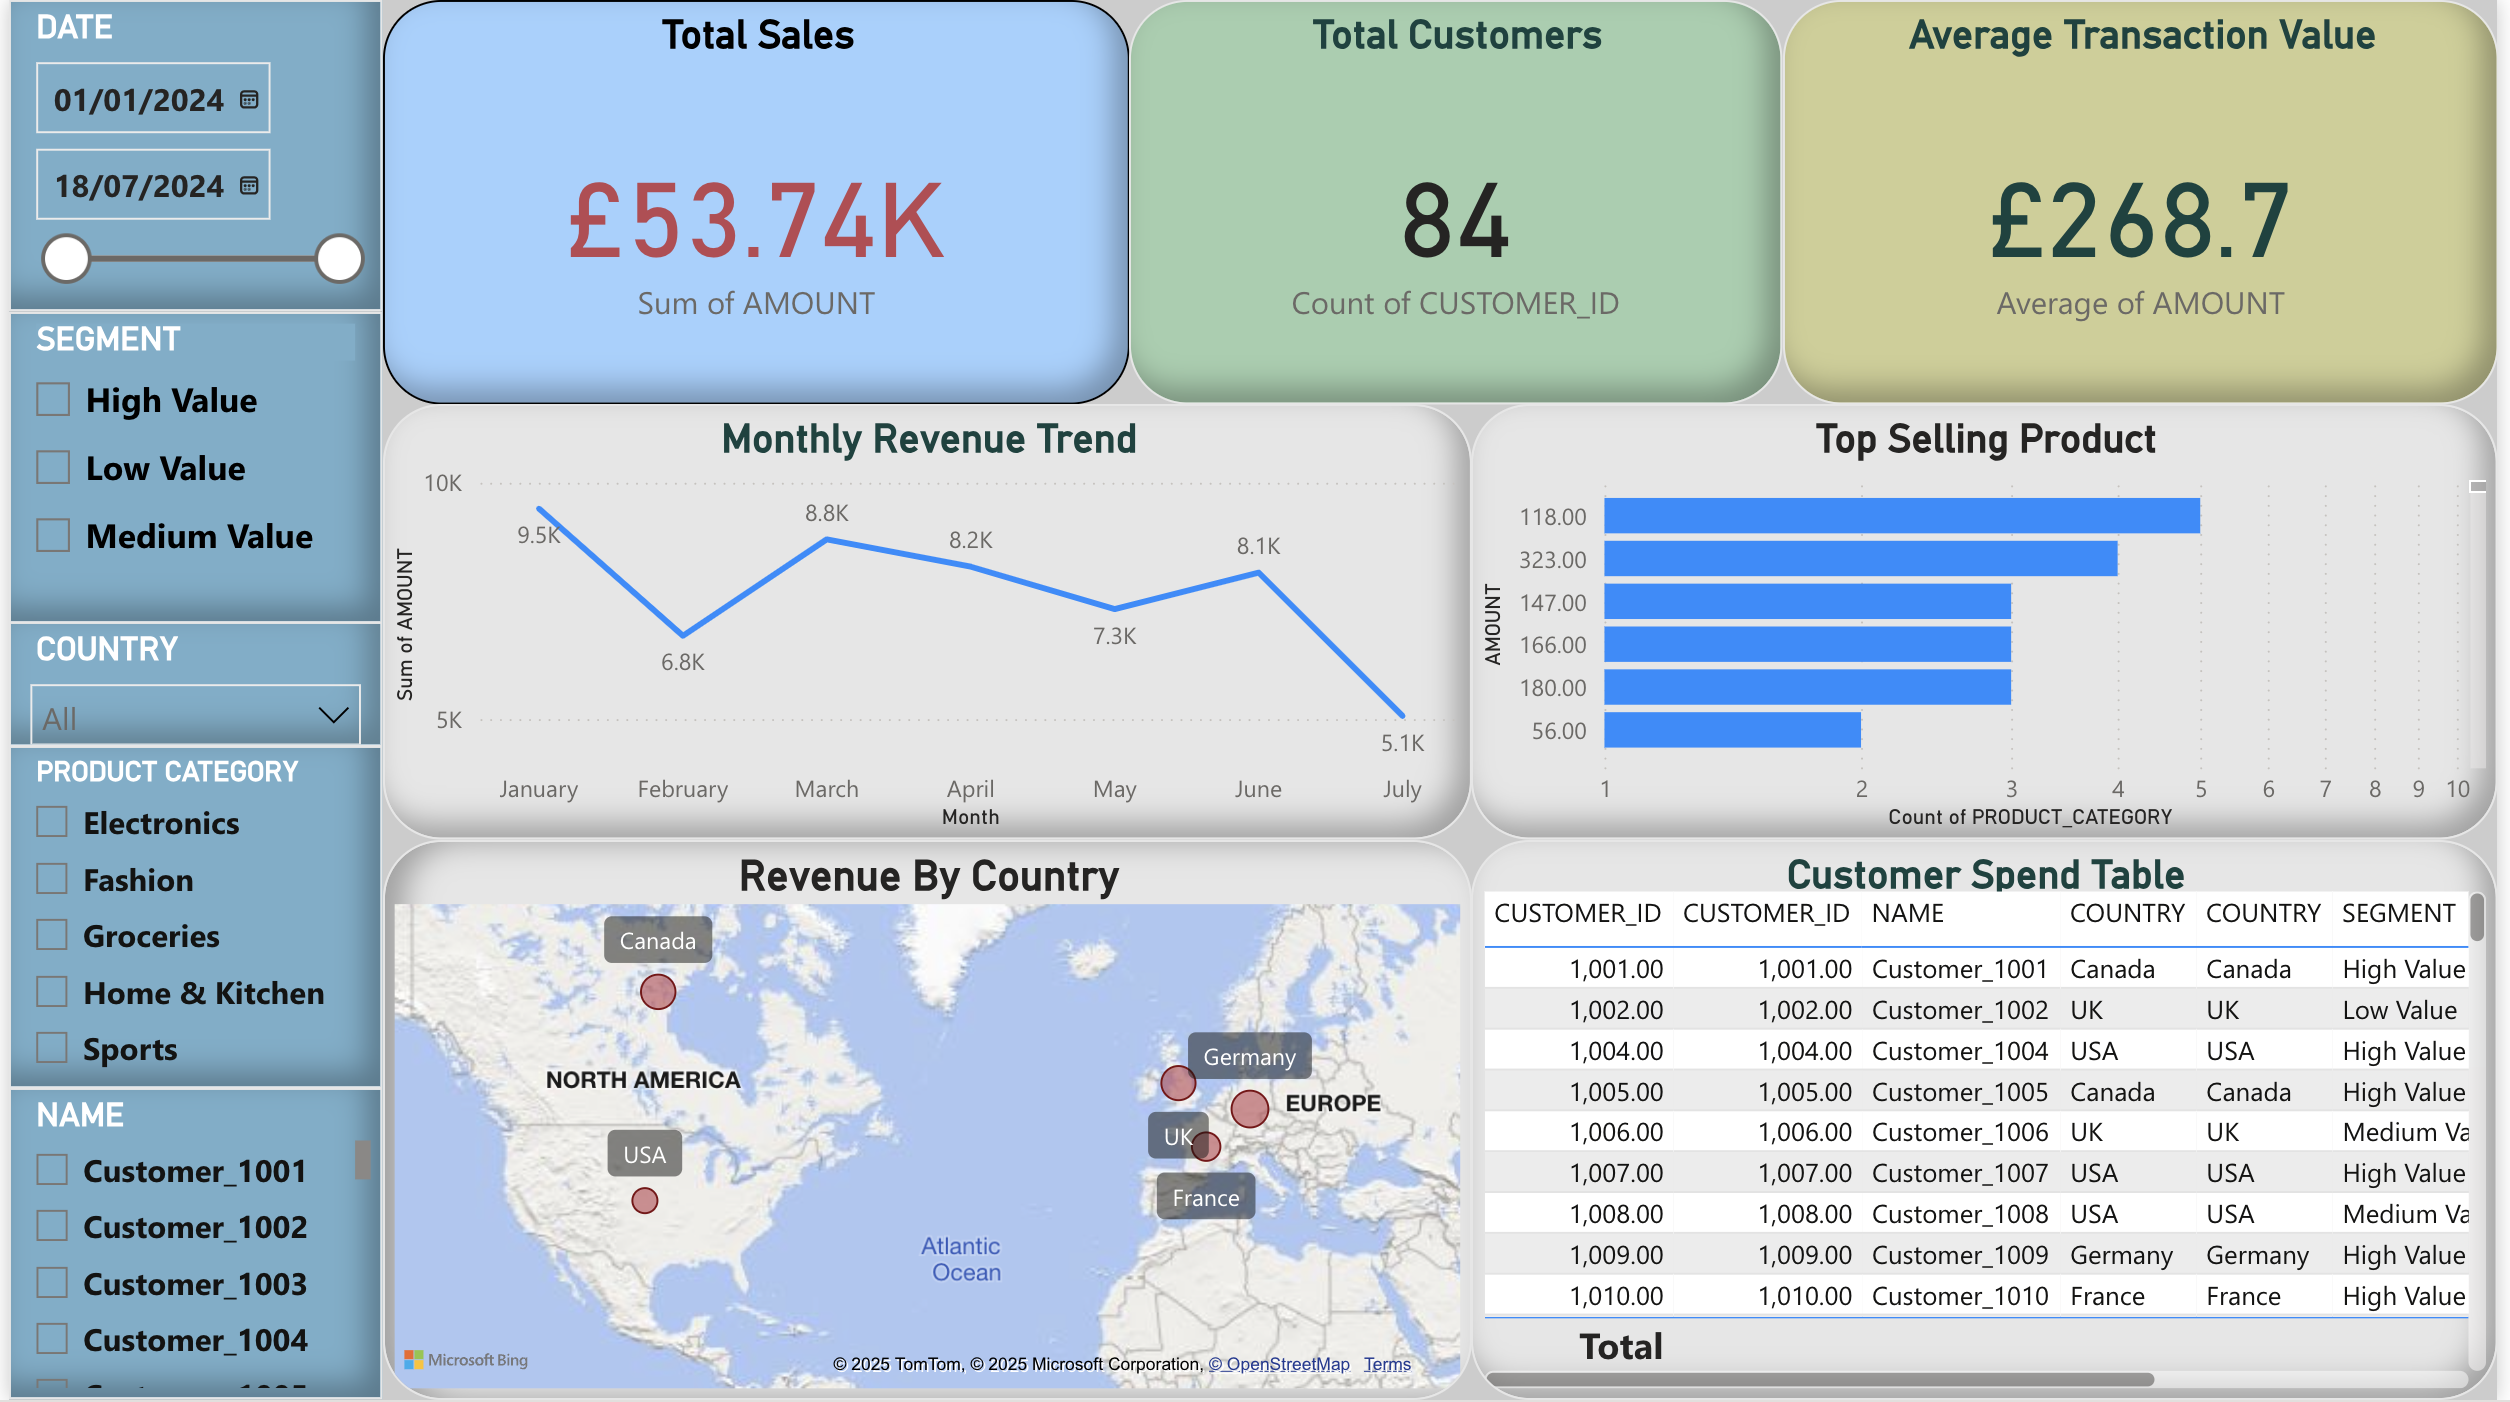

What the dashboard file says about the page in this screenshot:
{"tool":"powerbi","page":{"name":"Sales Customer Insights Dashboard","canvas":[1280,720],"ordinal":0},"visuals":[{"type":"card","title":"Total Sales","fields":{"Values":["FACT_TRANSACTIONS.AMOUNT"]},"box":[192,0,384,208],"z":0},{"type":"card","title":"Total Customers","fields":{"Values":["FACT_TRANSACTIONS.CUSTOMER_ID"]},"box":[576,0,336,208],"z":1000},{"type":"card","title":"Average Transaction Value","fields":{"Values":["FACT_TRANSACTIONS.AMOUNT"]},"box":[912,0,368,208],"z":2000},{"type":"lineChart","title":"Monthly Revenue Trend","fields":{"Y":["FACT_TRANSACTIONS.AMOUNT"],"Category":["FACT_TRANSACTIONS.DATE.Variation.Date Hierarchy.Month"]},"box":[192,208,560,224],"z":3000},{"type":"clusteredColumnChart","title":"Top Selling Product Categories ","fields":{"Category":["FACT_TRANSACTIONS.PRODUCT_CATEGORY"],"Y":["FACT_TRANSACTIONS.AMOUNT"]},"box":[816,432,352,144],"z":4000},{"type":"tableEx","title":"Customer Spend Table","fields":{"Values":["DIM_CUSTOMERS.CUSTOMER_ID","FACT_TRANSACTIONS.CUSTOMER_ID","DIM_CUSTOMERS.NAME","DIM_CUSTOMERS.COUNTRY","FACT_TRANSACTIONS.COUNTRY","FACT_TRANSACTIONS.SEGMENT","DIM_CUSTOMERS.SEGMENT","FACT_TRANSACTIONS.AMOUNT"]},"box":[752,432,528,288],"z":5000},{"type":"slicer","title":"Customer Segment","fields":{"Values":["DIM_CUSTOMERS.SEGMENT"]},"box":[0,160,192,160],"z":6000},{"type":"barChart","title":"Top Selling Product","fields":{"Y":["FACT_TRANSACTIONS.PRODUCT_CATEGORY"],"Category":["FACT_TRANSACTIONS.AMOUNT"]},"box":[752,208,528,224],"z":7001},{"type":"map","title":"Revenue By Country","fields":{"Category":["DIM_CUSTOMERS.COUNTRY"],"Size":["FACT_TRANSACTIONS.AMOUNT"]},"box":[192,432,560,288],"z":7002},{"type":"slicer","title":"Date Range","fields":{"Values":["FACT_TRANSACTIONS.DATE"]},"box":[0,0,192,160],"z":7003},{"type":"slicer","fields":{"Values":["DIM_CUSTOMERS.COUNTRY"]},"box":[0,320,192,64],"z":7004},{"type":"slicer","fields":{"Values":["FACT_TRANSACTIONS.PRODUCT_CATEGORY"]},"box":[0,384,192,176],"z":7005},{"type":"slicer","fields":{"Values":["DIM_CUSTOMERS.NAME"]},"box":[0,560,192,160],"z":7006}]}

Visuals, with their boxes in screenshot pixels (x1, y1, x2, y2), scaled from the page's 1280x720 canvas onto the 2510x1402 screenshot:
"Total Sales" card: bbox(376, 0, 1130, 405)
"Total Customers" card: bbox(1130, 0, 1788, 405)
"Average Transaction Value" card: bbox(1788, 0, 2509, 405)
"Monthly Revenue Trend" lineChart: bbox(376, 405, 1475, 841)
"Top Selling Product Categories " clusteredColumnChart: bbox(1600, 841, 2290, 1122)
"Customer Spend Table" tableEx: bbox(1475, 841, 2509, 1401)
"Customer Segment" slicer: bbox(0, 312, 376, 623)
"Top Selling Product" barChart: bbox(1475, 405, 2509, 841)
"Revenue By Country" map: bbox(376, 841, 1475, 1401)
"Date Range" slicer: bbox(0, 0, 376, 312)
slicer - DIM_CUSTOMERS.COUNTRY: bbox(0, 623, 376, 748)
slicer - FACT_TRANSACTIONS.PRODUCT_CATEGORY: bbox(0, 748, 376, 1090)
slicer - DIM_CUSTOMERS.NAME: bbox(0, 1090, 376, 1401)
